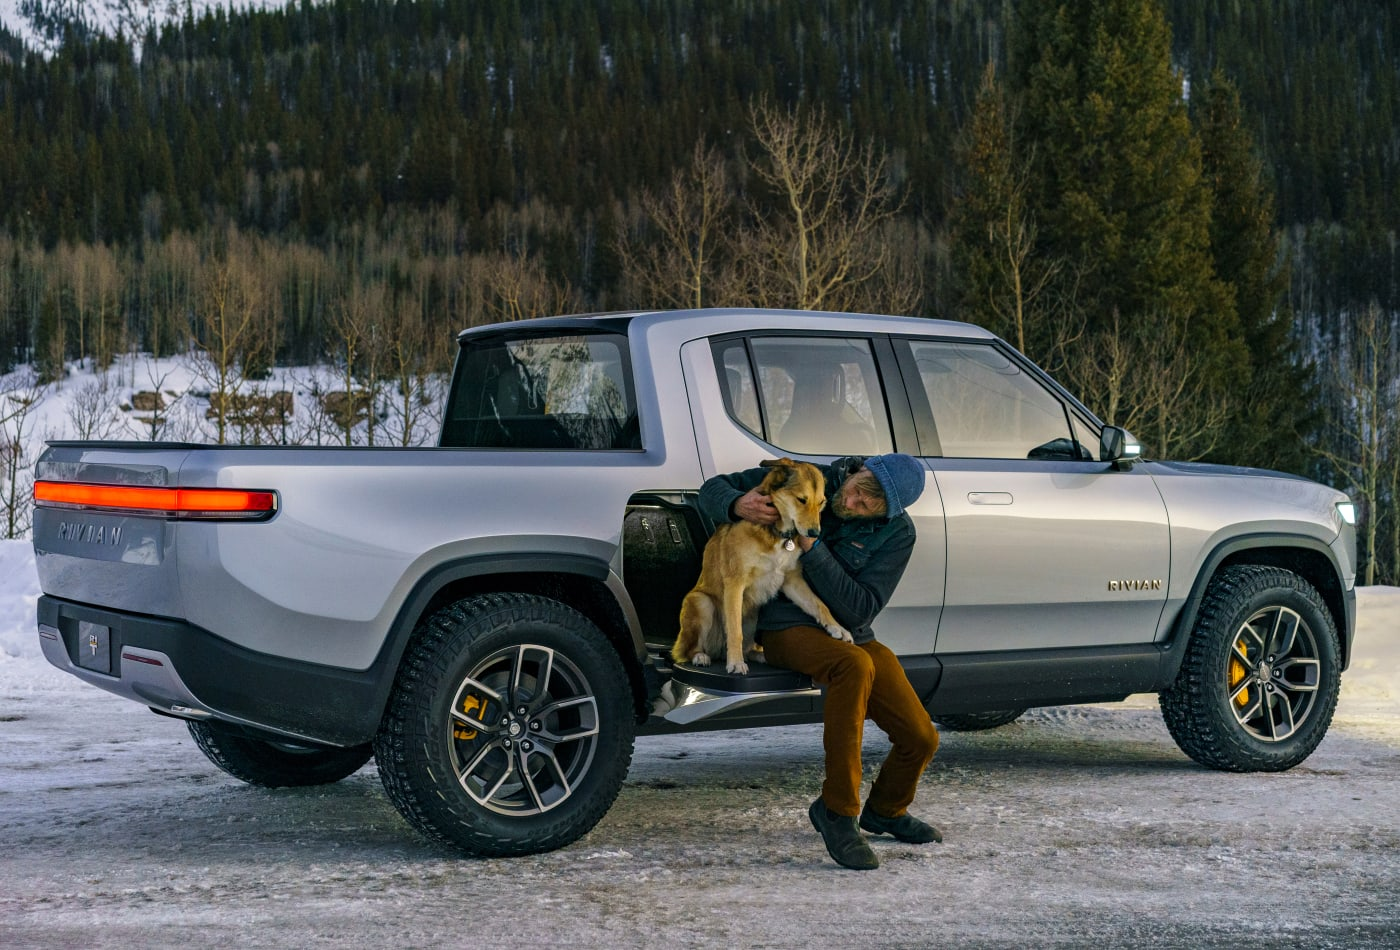truck: (127, 251, 1325, 715), (851, 298, 1397, 723)
